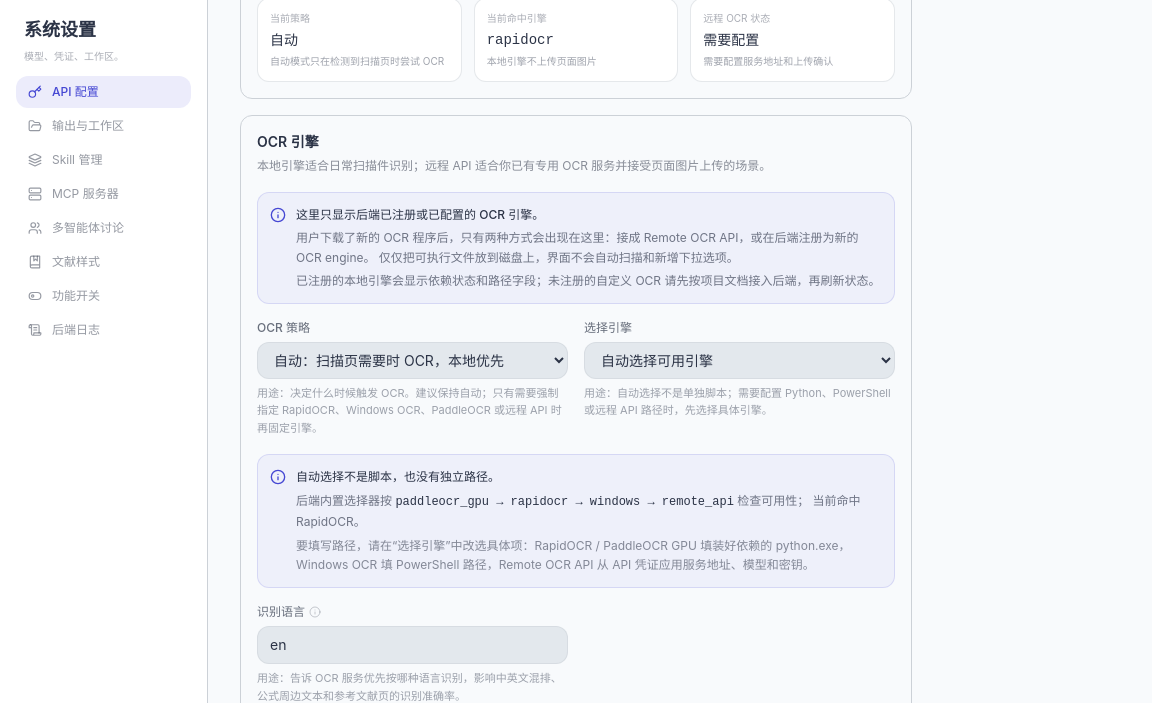
Test: Settings navigation › shows the PaddleOCR python.exe field instead of implying a source folder is enough
This screenshot has width=1152, height=703.
(page scrolled)
Step 1. Select "固定使用下方选择的引擎" in the dropdown labelled "OCR 策略" → (412, 360), box [257,342,568,378]
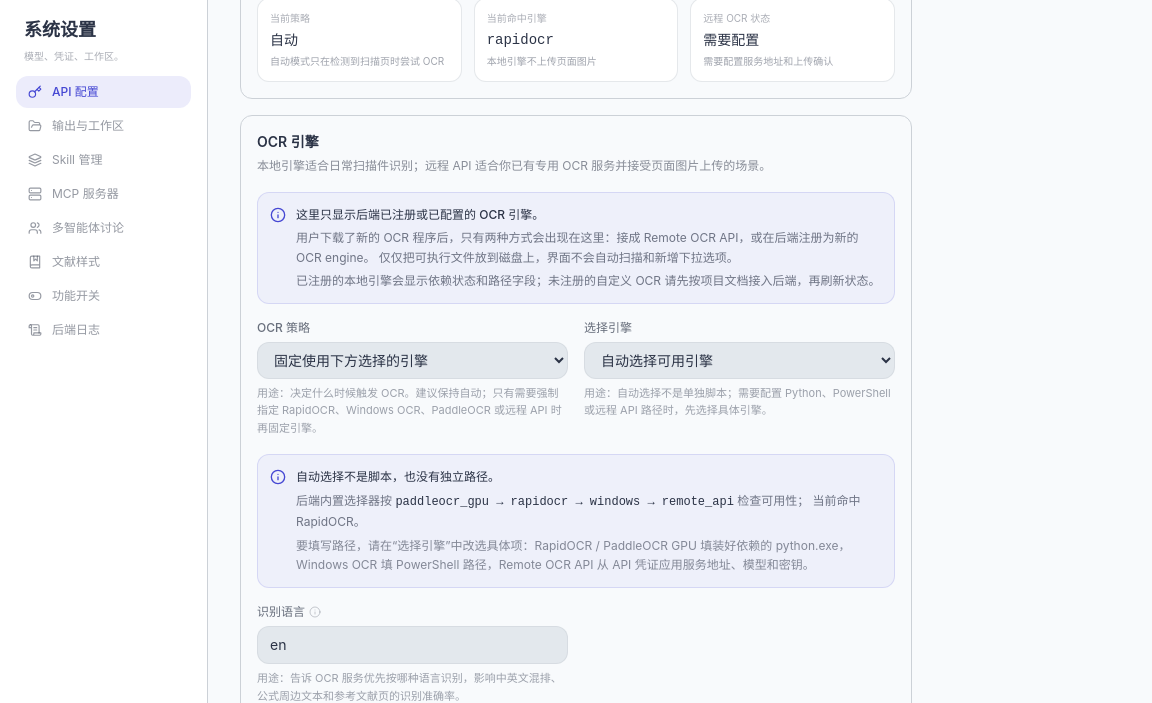
Step 2. Select "PaddleOCR GPU · 缺少依赖" in the dropdown labelled "选择引擎" → (740, 360), box [584,342,895,378]
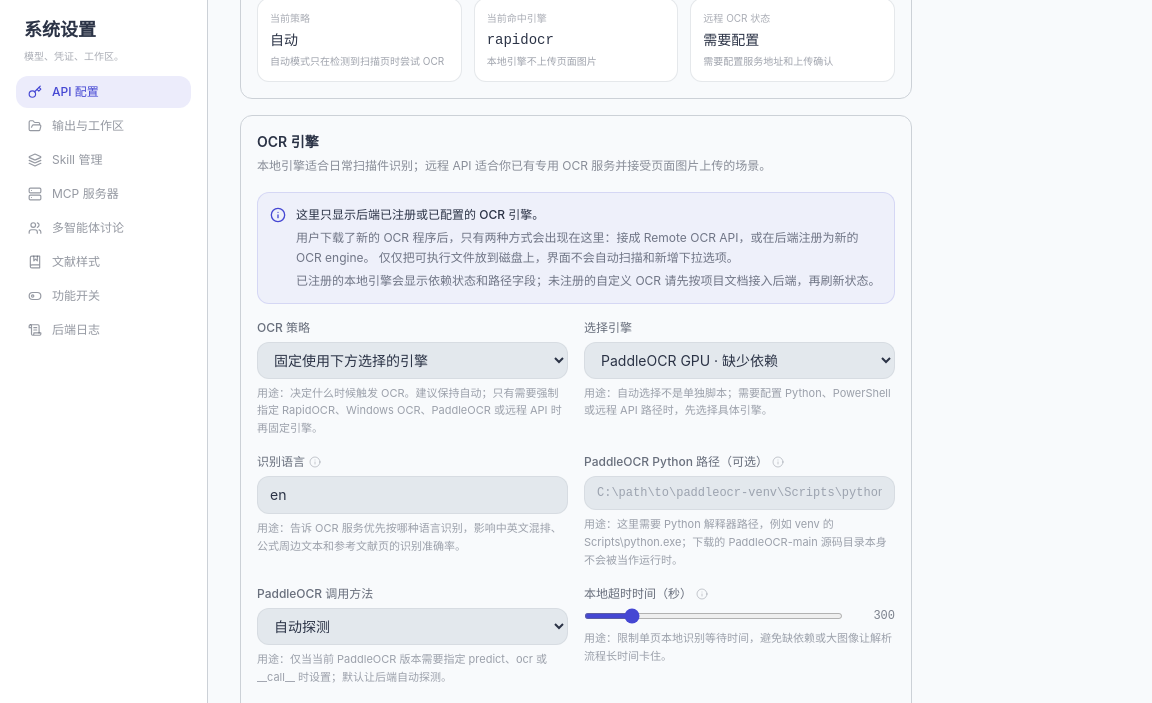
Check: the text "PaddleOCR Python 路径（可选）" is shown, box [584,454,784,469]
Check: the field with placeholder "C:\\path\\to\\paddleocr-venv\\Scripts\\python.exe" is shown, box [584,476,895,510]
Check: the text "下载的 PaddleOCR-main 源码目录本身不会被当作运行时" is shown, box [584,517,887,567]
